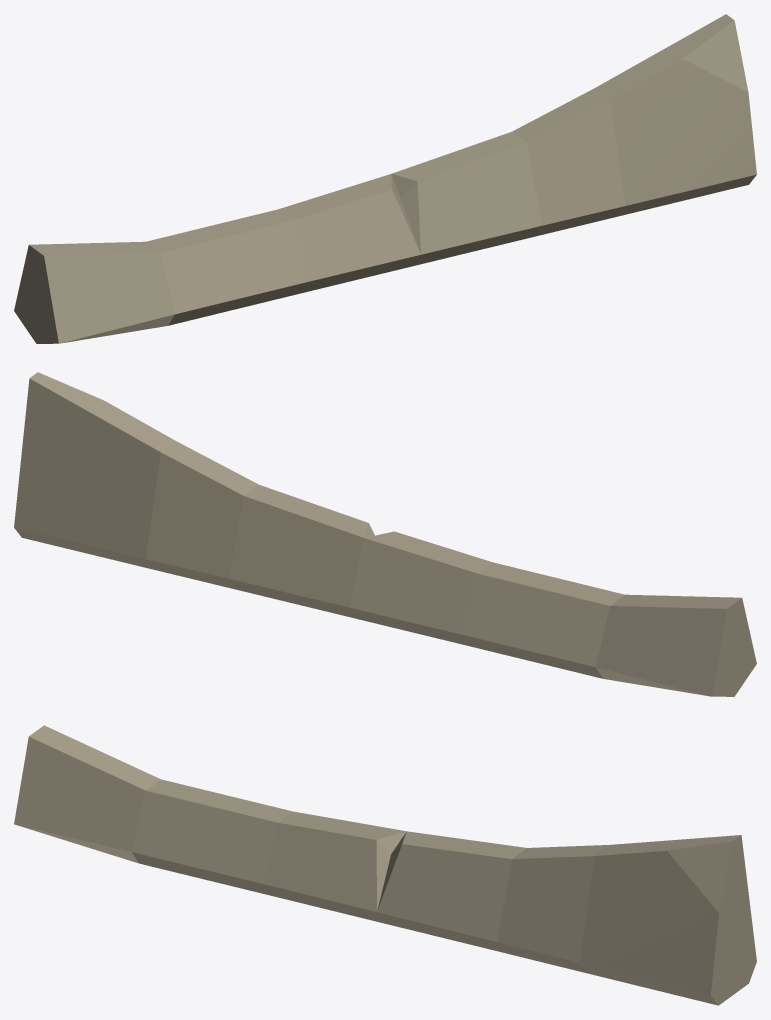
File: _ROOF_UP_WOOD_ELEMENT_1.fbx
3 views of the same model, one above another, from view 1: azimuth 30°, elevation 25°; view 2: azimuth 150°, elevation 25°; view 3: azimuth 330°, elevation 25° (orthographic).
Visible parts, largest first — view 1: ROOF_UP_WOOD_ELEMENT_1; view 2: ROOF_UP_WOOD_ELEMENT_1; view 3: ROOF_UP_WOOD_ELEMENT_1.
Part boxes in pixels (left/top/right/bottom): ROOF_UP_WOOD_ELEMENT_1: left=14, top=14, right=756, bottom=343; ROOF_UP_WOOD_ELEMENT_1: left=14, top=372, right=756, bottom=696; ROOF_UP_WOOD_ELEMENT_1: left=14, top=725, right=756, bottom=1005.
Size of the model in its own units: 172 by 36.37 by 19.79.
